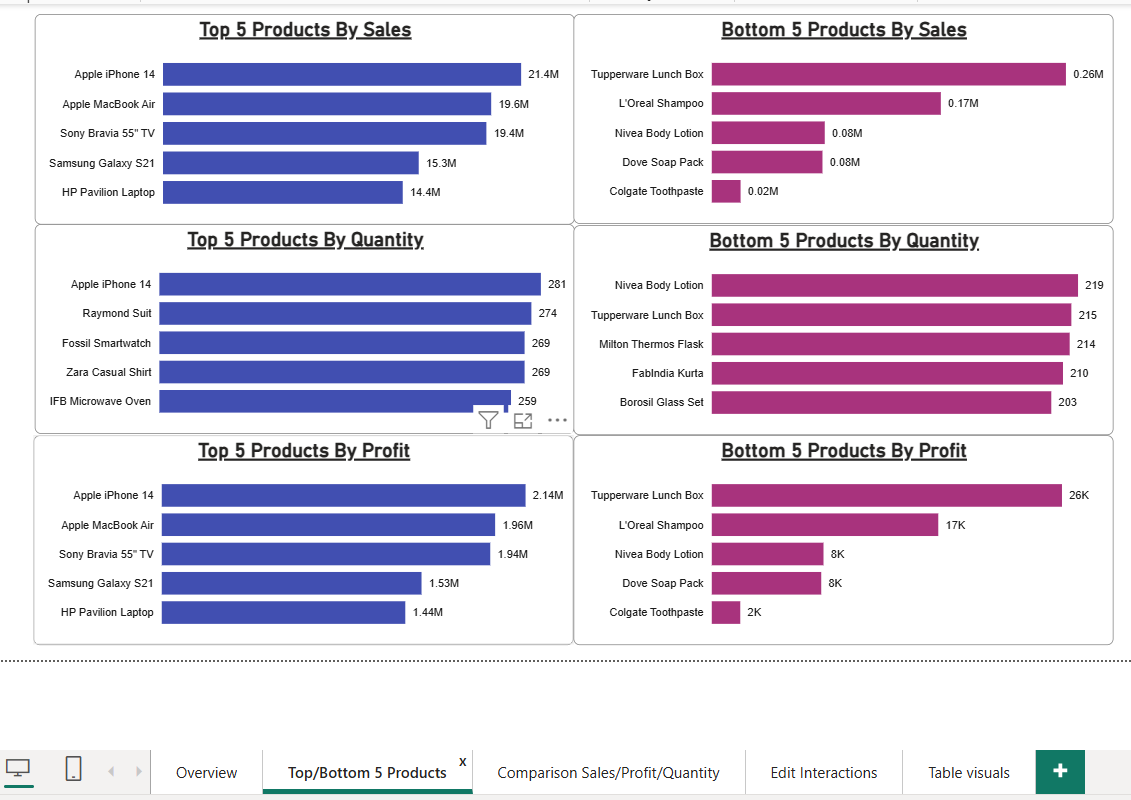

What the dashboard file says about the page in this screenshot:
{"tool":"powerbi","page":{"name":"Top/Bottom 5 Products","canvas":[1280,720],"ordinal":1},"visuals":[{"type":"barChart","title":"Top 5 Products By Sales","fields":{"Category":["Dim Product.Product Name"],"Y":["Sum(Fact Table.Net Sales  )"]},"box":[48.6,11.4,592.9,231.4],"z":0},{"type":"barChart","title":"Bottom 5 Products By Sales","fields":{"Category":["Dim Product.Product Name"],"Y":["Sum(Fact Table.Net Sales  )"]},"box":[640,11.4,592.9,230],"z":1000},{"type":"barChart","title":"Top 5 Products By Quantity","fields":{"Category":["Dim Product.Product Name"],"Y":["Sum(Fact Table.Units Sold)"]},"box":[48.6,241.4,592.9,230],"z":2000},{"type":"barChart","title":"Bottom 5 Products By Quantity","fields":{"Category":["Dim Product.Product Name"],"Y":["Sum(Fact Table.Units Sold)"]},"box":[640,242.9,592.9,230],"z":3000},{"type":"barChart","title":"Top 5 Products By Profit","fields":{"Category":["Dim Product.Product Name"],"Y":["Sum(Fact Table.Profit)"]},"box":[47.1,472.9,592.9,230],"z":4000},{"type":"barChart","title":"Bottom 5 Products By Profit","fields":{"Category":["Dim Product.Product Name"],"Y":["Sum(Fact Table.Profit)"]},"box":[640,472.9,592.9,230],"z":5000}]}

Visuals, with their boxes on the page's 1280x720 design canvas (x1, y1, x2, y2). These are canvas units, not pixel positions in the 1131x800 screenshot, which may show the page scaled, cropped or inside an application window:
"Top 5 Products By Sales" barChart: select_region(49, 11, 642, 243)
"Bottom 5 Products By Sales" barChart: select_region(640, 11, 1233, 241)
"Top 5 Products By Quantity" barChart: select_region(49, 241, 642, 471)
"Bottom 5 Products By Quantity" barChart: select_region(640, 243, 1233, 473)
"Top 5 Products By Profit" barChart: select_region(47, 473, 640, 703)
"Bottom 5 Products By Profit" barChart: select_region(640, 473, 1233, 703)
